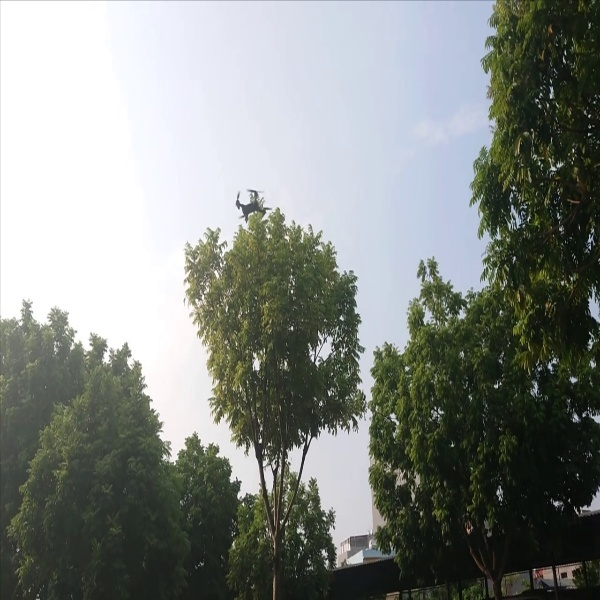drone: (229, 185, 276, 226)
